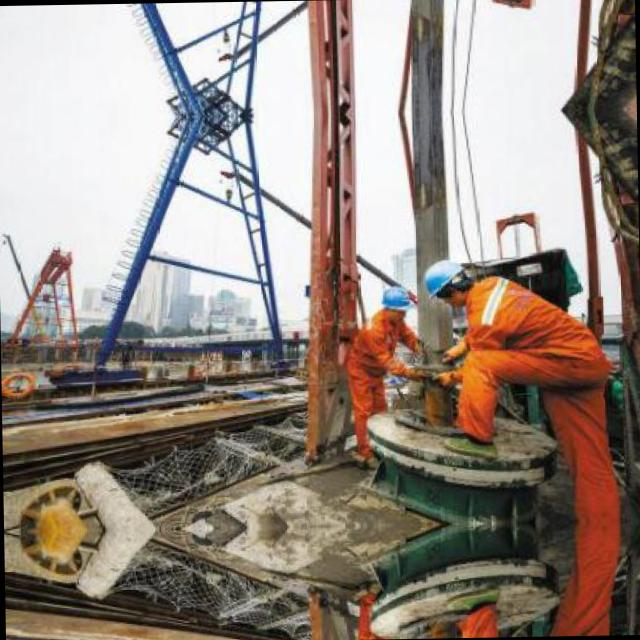helmet: (420, 258, 470, 307), (374, 281, 412, 325)
